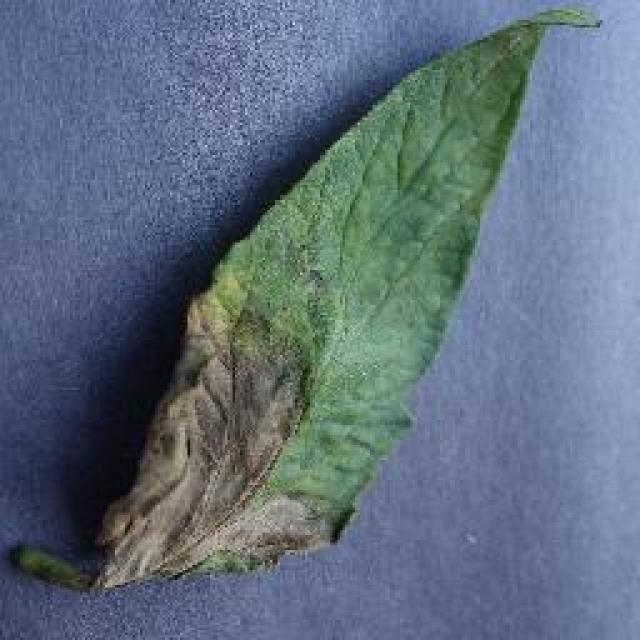leaf blight: (16, 2, 607, 598)
